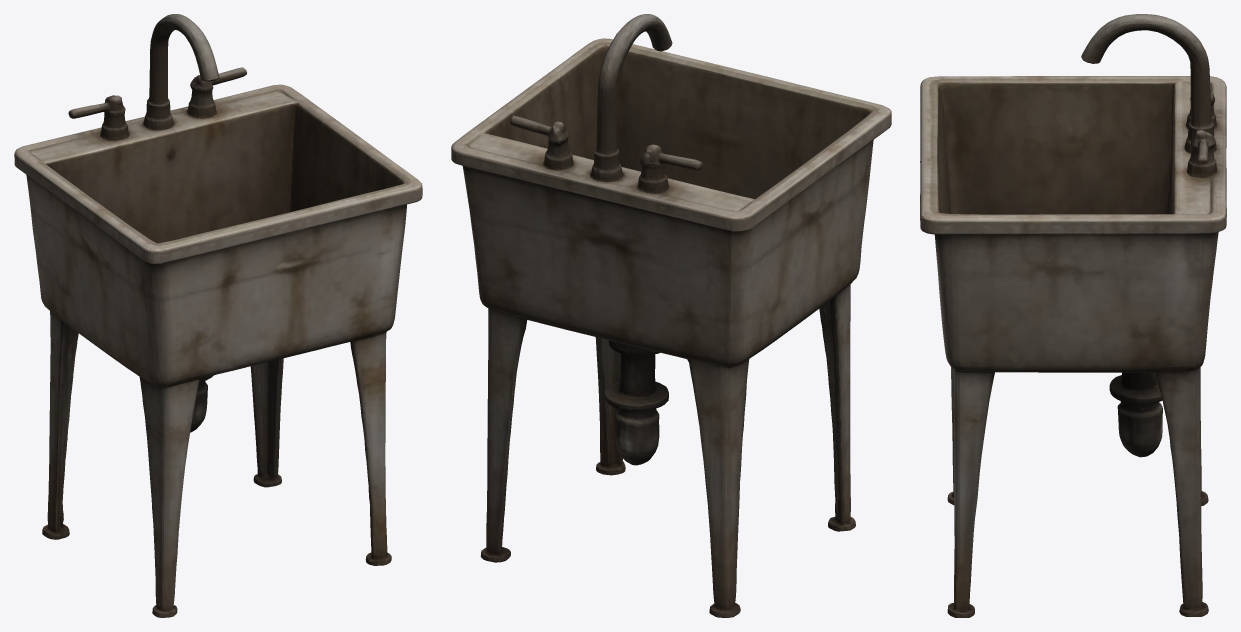
The model's file is utility_sink.glb.
3 views of the same model, side by side, from view 1: azimuth 30°, elevation 25°; view 2: azimuth 150°, elevation 25°; view 3: azimuth 270°, elevation 25° (orthographic). The views are drawn at different scales.
Parts seen in each view (by area): view 1: geometry_0; view 2: geometry_0; view 3: geometry_0.
Part boxes in pixels (x1,y1,x2,y2): geometry_0: [14, 14, 422, 617]; geometry_0: [451, 14, 891, 617]; geometry_0: [920, 14, 1226, 617].
Bounding box in the file's own units: 0.5752 × 1 × 0.5139.
1 material, 1 textured.
